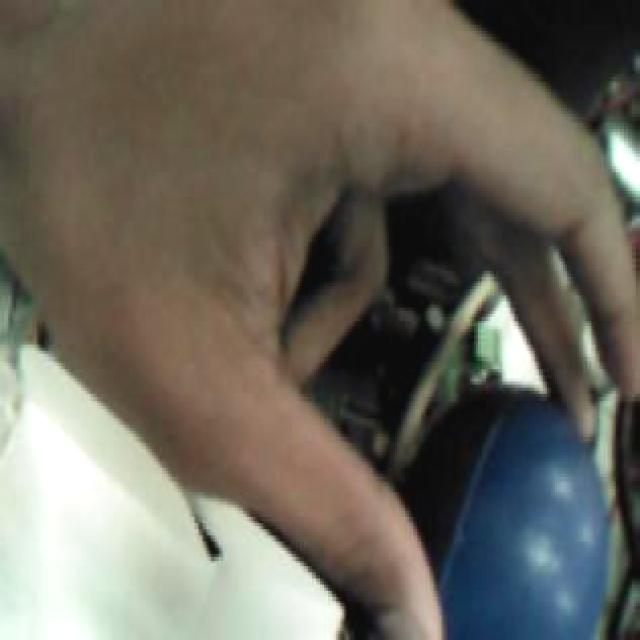BallPurple: (399, 381, 605, 640)
